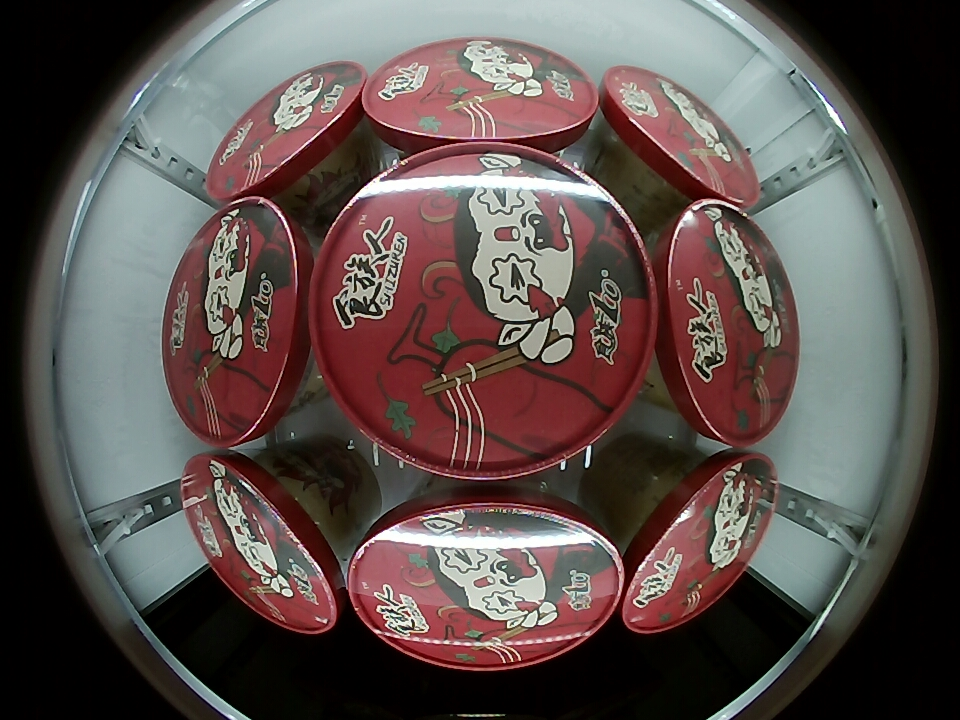suanlafen: (309, 143, 659, 479), (346, 484, 626, 669), (162, 196, 316, 447), (652, 199, 799, 447), (181, 452, 348, 634), (618, 451, 777, 633), (362, 39, 601, 157), (598, 65, 760, 209), (207, 61, 368, 205)
